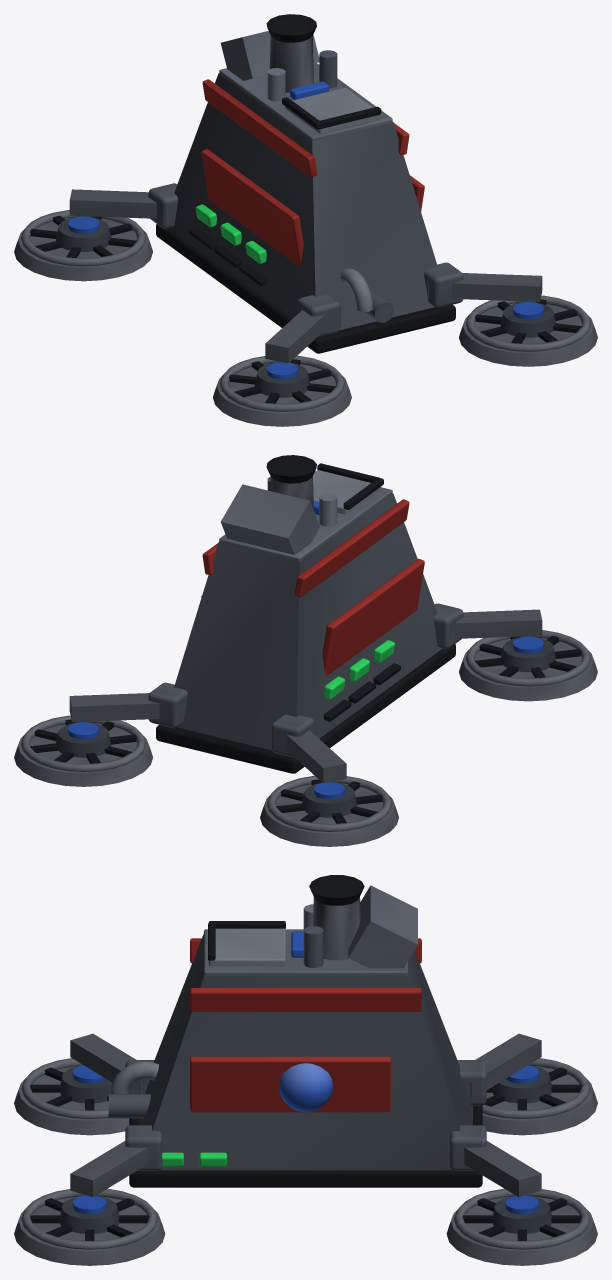
File: engineering_bay.glb
3 renders of one model, top to bottom at view 1: azimuth 30°, elevation 25°; view 2: azimuth 150°, elevation 25°; view 3: azimuth 270°, elevation 25°, orthographic. The views are drawn at different scales.
Parts seen in each view (by area): view 1: body; view 2: body; view 3: body.
Boxes of the visible parts, x1,y1,x2,y2 form: body: [14, 14, 597, 426]; body: [14, 455, 597, 846]; body: [14, 875, 597, 1265].
Bounding box in the file's own units: 2.98 × 2.02 × 3.78.
